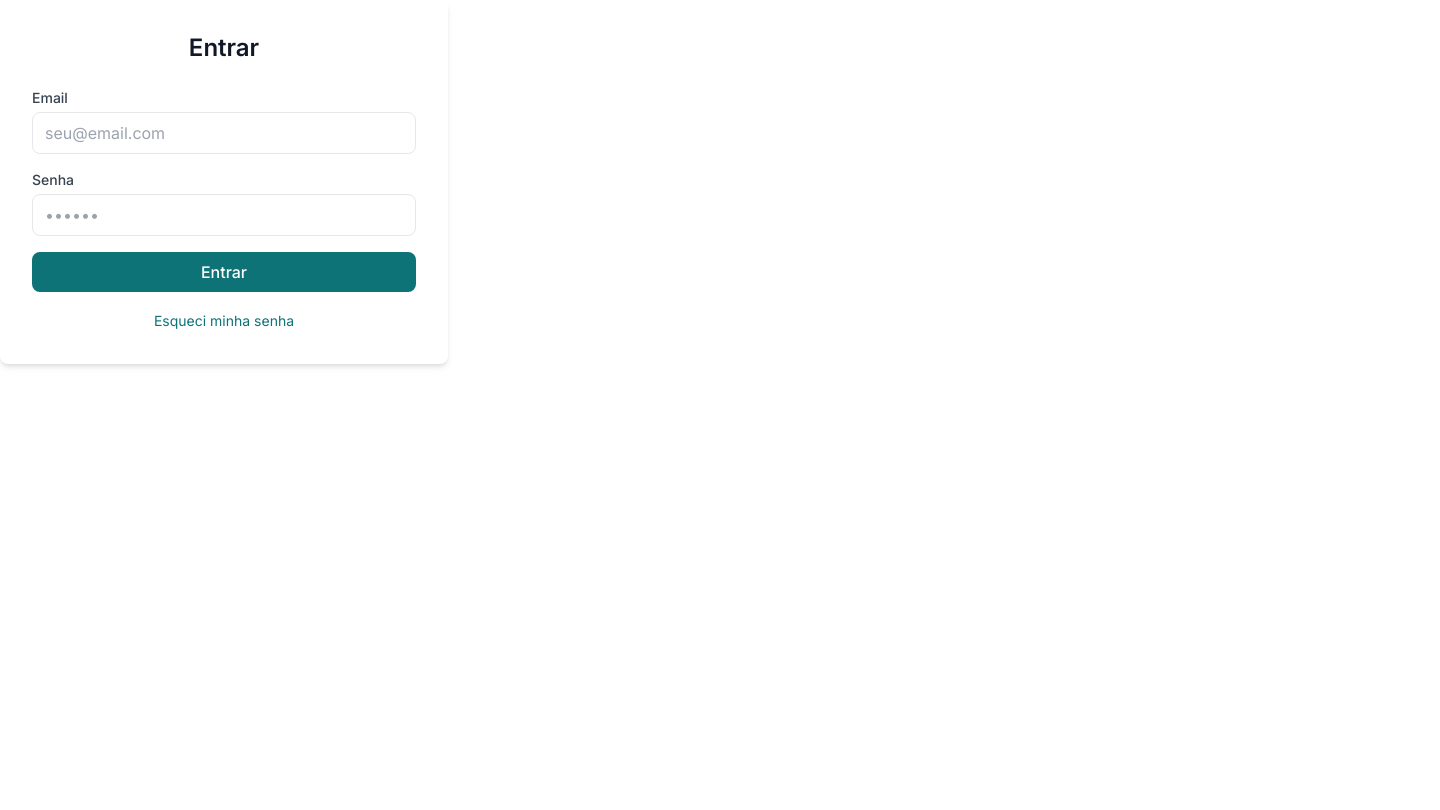
LoginForm › toast on 'Esqueci minha senha' › shows 'Funcionalidade em breve' toast when clicking forgot password
Step 1. Click the button "Esqueci minha senha" → (224, 321), box x1=154 y1=311 x2=294 y2=331
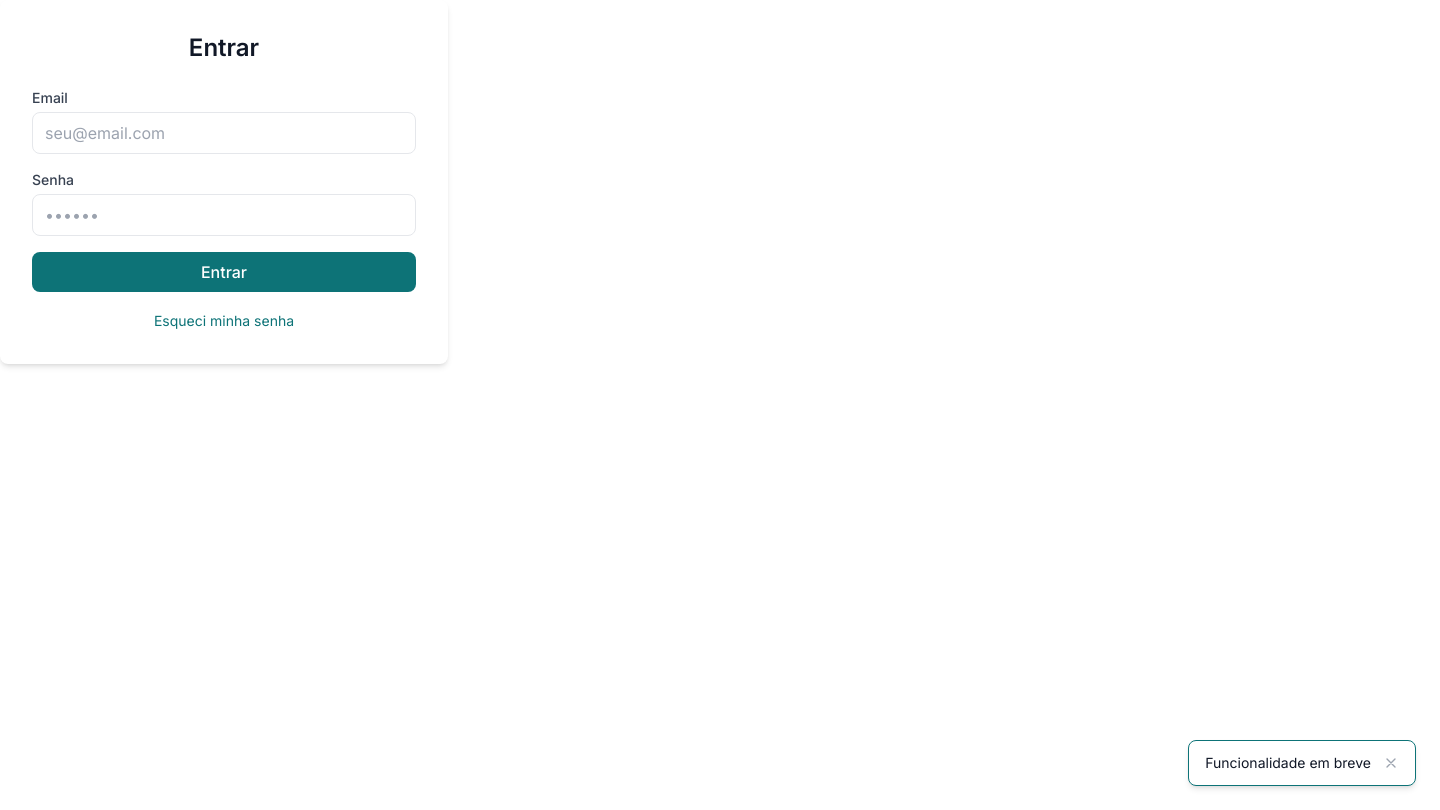
Now the text "Funcionalidade em breve" is shown, box x1=1205 y1=753 x2=1371 y2=773
